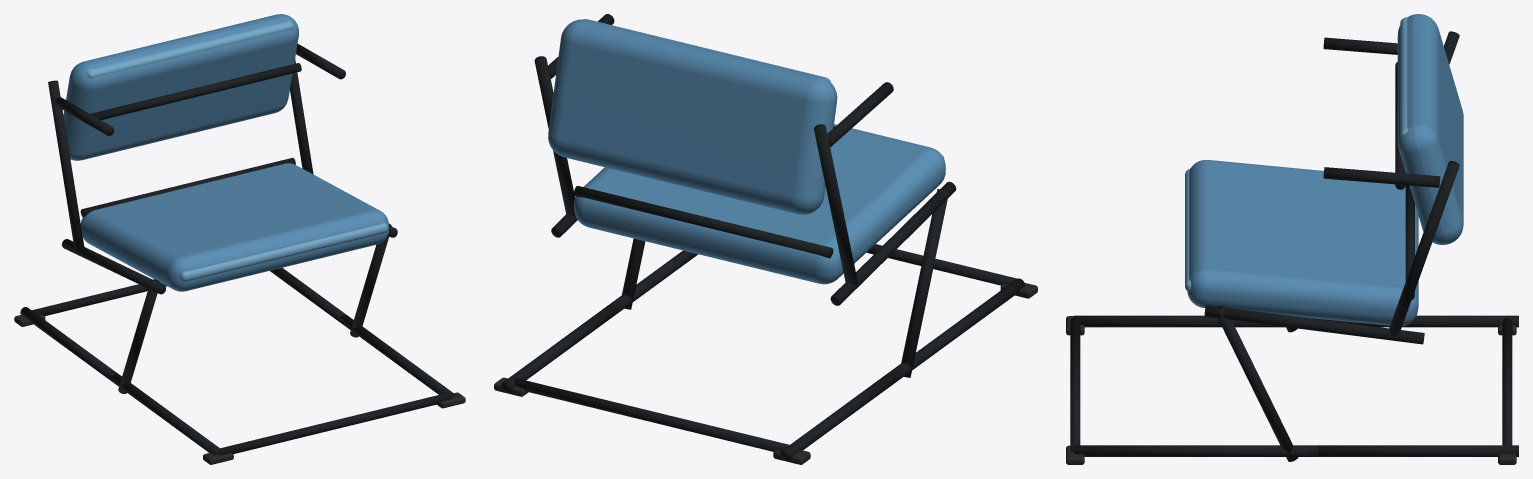
Rendered from visitor_chair_unity.glb.
3 views of the same model, side by side, from view 1: azimuth 30°, elevation 25°; view 2: azimuth 150°, elevation 25°; view 3: azimuth 270°, elevation 25° (orthographic). The views are drawn at different scales.
Visible parts, largest first — view 1: thick blue seat cushion, curved style back cushion, front lower crossbar, slim cushion front bevel highlight, back crossbar, upper back cushion highlight, back support tube, front floor sled tube, front floor sled tube.001, rear floor sled tube, under seat tube, front rising tube (+7 smaller); view 2: curved style back cushion, thick blue seat cushion, rear lower crossbar, seat rear crossbar, front rising tube, back support tube, under seat tube, front floor sled tube, rear floor sled tube, rear floor sled tube.001, back support tube.001, front lower crossbar (+3 smaller); view 3: thick blue seat cushion, curved style back cushion, front floor sled tube.001, under seat tube.001, rear floor sled tube.001, back support tube.001, front floor sled tube, front rising tube.001, rear floor sled tube, back top connector tube.001, front lower crossbar, rear lower crossbar (+5 smaller).
Part boxes in pixels (box(x1,y1,x2,y2)): thick blue seat cushion: box(80, 163, 389, 291); curved style back cushion: box(63, 14, 298, 160); front lower crossbar: box(219, 393, 452, 455); slim cushion front bevel highlight: box(180, 223, 387, 281); back crossbar: box(84, 63, 301, 123); upper back cushion highlight: box(87, 21, 293, 78); back support tube: box(48, 80, 84, 250); front floor sled tube: box(108, 371, 220, 454); front floor sled tube.001: box(340, 314, 454, 396); rear floor sled tube: box(20, 307, 117, 381); under seat tube: box(62, 239, 165, 294); front rising tube: box(118, 279, 159, 393); curved style back cushion: box(548, 19, 837, 214); thick blue seat cushion: box(574, 124, 945, 284); rear lower crossbar: box(514, 378, 789, 451); seat rear crossbar: box(574, 186, 833, 258); front rising tube: box(901, 189, 948, 377); back support tube: box(814, 124, 857, 285); under seat tube: box(830, 181, 956, 305); front floor sled tube: box(889, 278, 1025, 381); rear floor sled tube: box(780, 370, 900, 460); rear floor sled tube.001: box(501, 303, 621, 392); back support tube.001: box(534, 56, 575, 216); front lower crossbar: box(866, 244, 1016, 285); thick blue seat cushion: box(1187, 160, 1418, 326); curved style back cushion: box(1397, 14, 1463, 244); front floor sled tube.001: box(1074, 445, 1317, 456); under seat tube.001: box(1204, 305, 1424, 344); rear floor sled tube.001: box(1310, 445, 1518, 456); back support tube.001: box(1389, 161, 1459, 336); front floor sled tube: box(1074, 315, 1317, 327); front rising tube.001: box(1217, 305, 1298, 461); rear floor sled tube: box(1312, 315, 1518, 327); back top connector tube.001: box(1323, 167, 1440, 187); front lower crossbar: box(1070, 317, 1080, 451); rear lower crossbar: box(1502, 318, 1512, 445).
Bounding box in the file's own units: 1.1 × 1.16 × 1.46.
